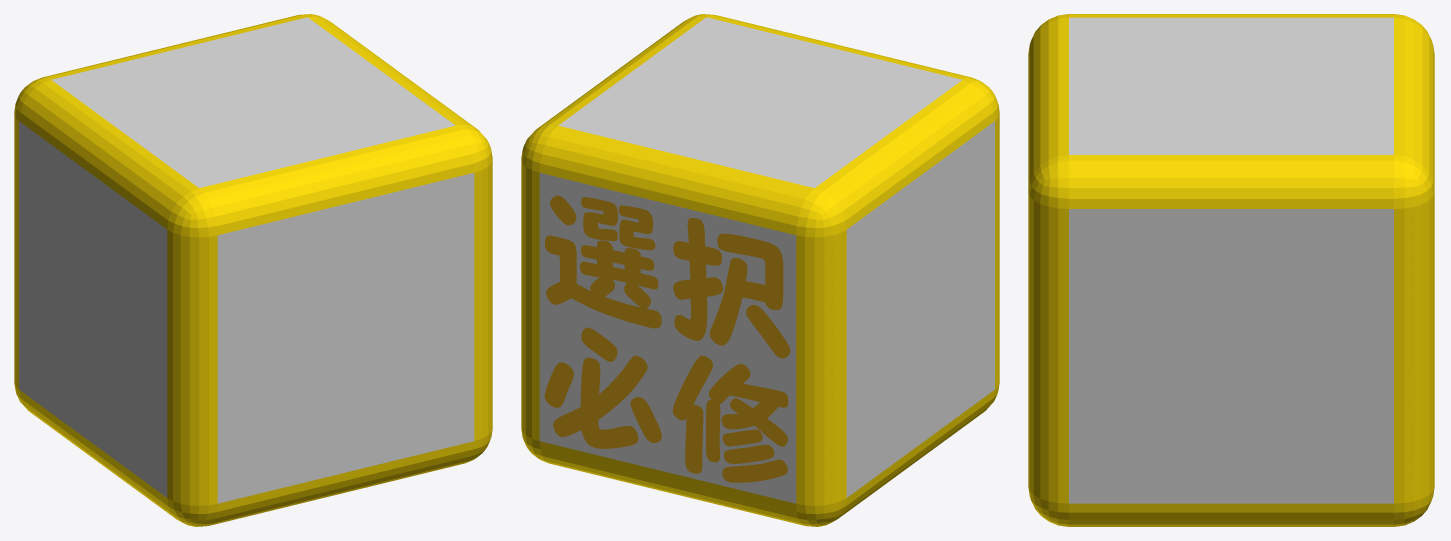
Rendered from subcompulsory.fbx.
3 views of the same model, side by side, from view 1: azimuth 30°, elevation 25°; view 2: azimuth 150°, elevation 25°; view 3: azimuth 270°, elevation 25° (orthographic). The views are drawn at different scales.
Visible parts, largest first — view 1: Cube; view 2: Cube, テキスト; view 3: Cube.
Boxes of the visible parts, <box> form: Cube: <box>14,14,492,526</box>; Cube: <box>521,14,999,526</box>; テキスト: <box>544,195,790,482</box>; Cube: <box>1028,14,1434,526</box>.
Size of the model in its own units: 200 by 200 by 201.
